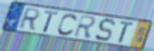C: (56, 13, 79, 37)
R: (72, 14, 98, 40), (17, 7, 42, 31)
S: (94, 18, 116, 43)
T: (42, 10, 60, 34), (117, 21, 135, 44)
